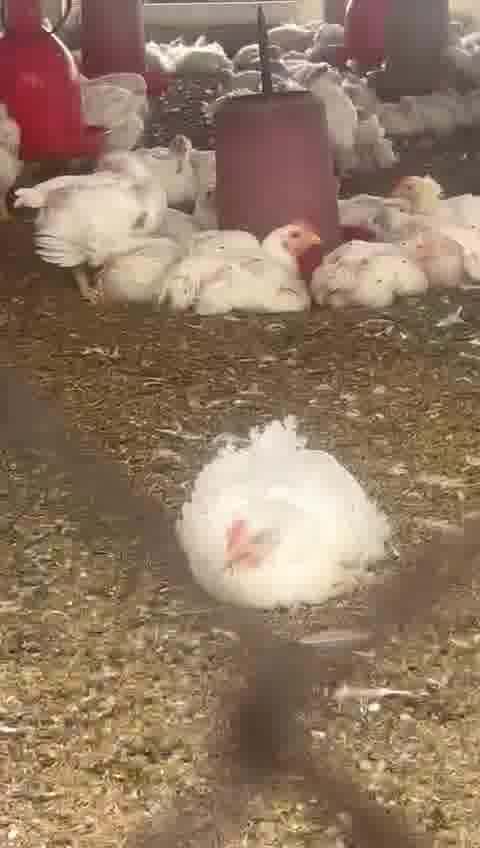AbNormal: (182, 419, 385, 607), (30, 157, 164, 268), (168, 224, 327, 316), (395, 170, 479, 280)
